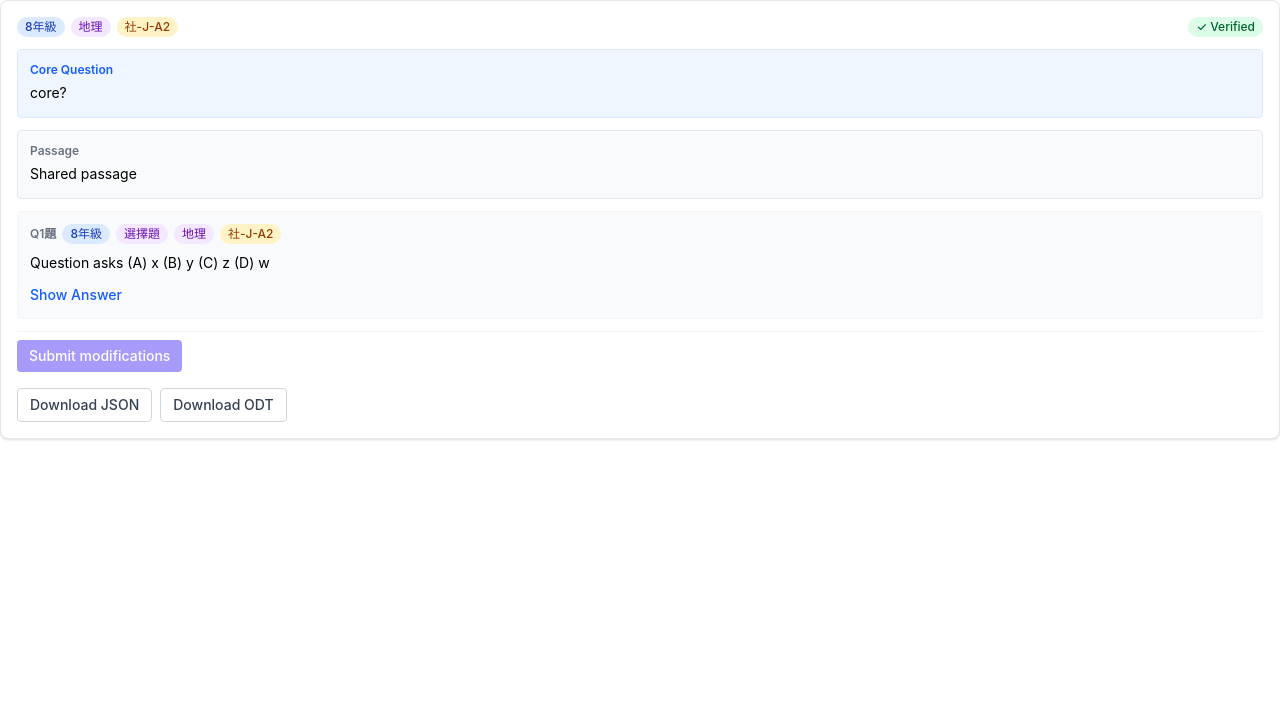
it: QuestionCard rubric eras and legacy display › renders native 0..N rubric levels and their examples as text
The width and height of the screenshot is (1280, 720).
Click the button "Show Answer": [76, 295] box x1=30 y1=285 x2=122 y2=305
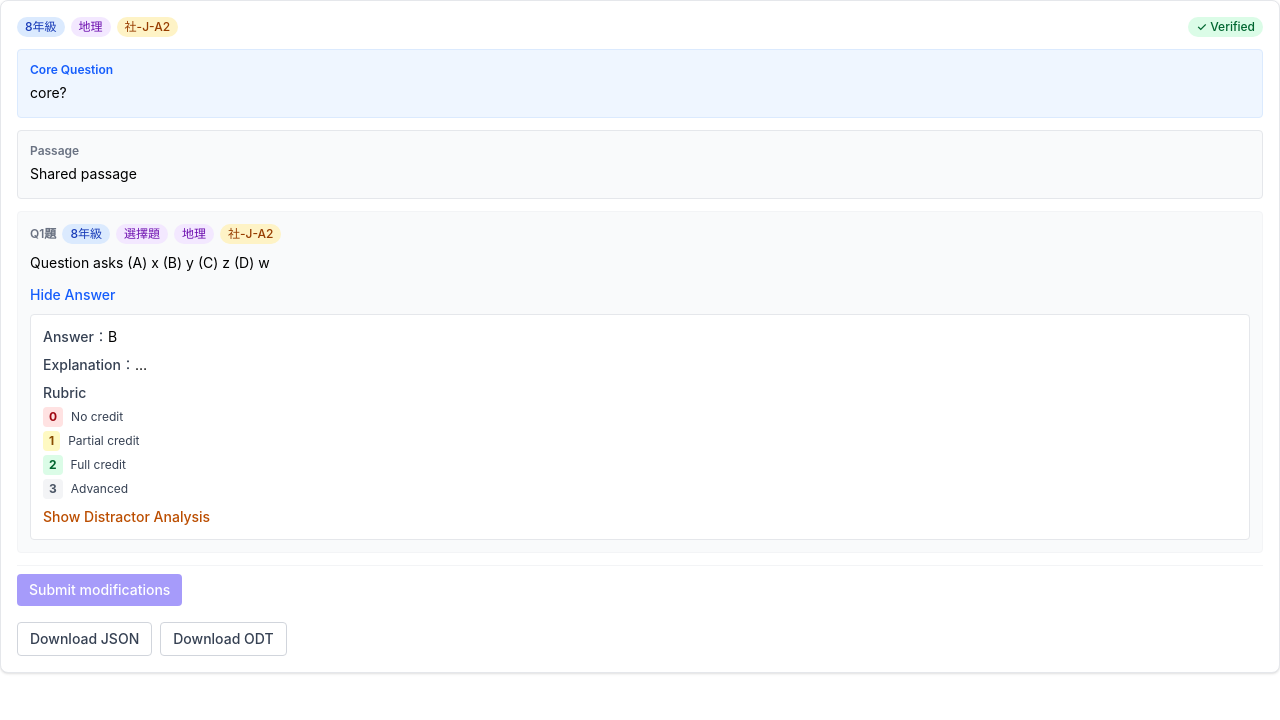
expect the text "0" is shown: met, box x1=43 y1=407 x2=63 y2=427
expect the text "No credit" is shown: met, box x1=71 y1=407 x2=123 y2=427
expect the text "1" is shown: met, box x1=43 y1=431 x2=60 y2=451
